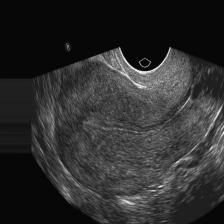no-pcos: (38, 70, 224, 214)
